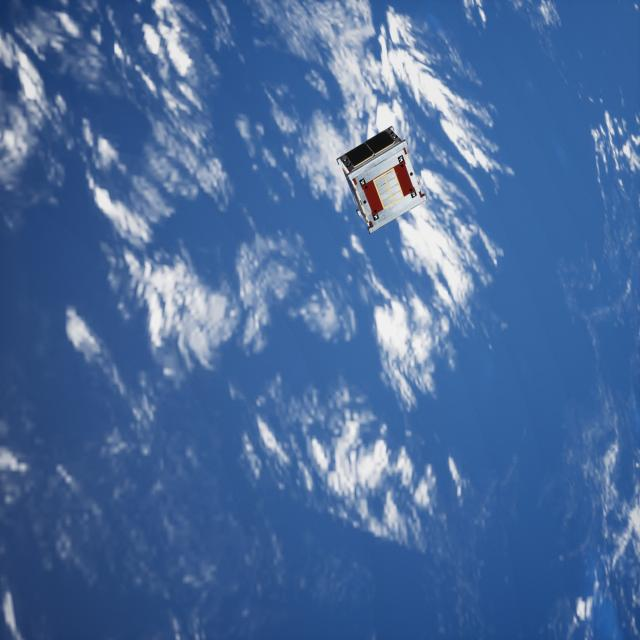medium_debris: (337, 130, 429, 236)
